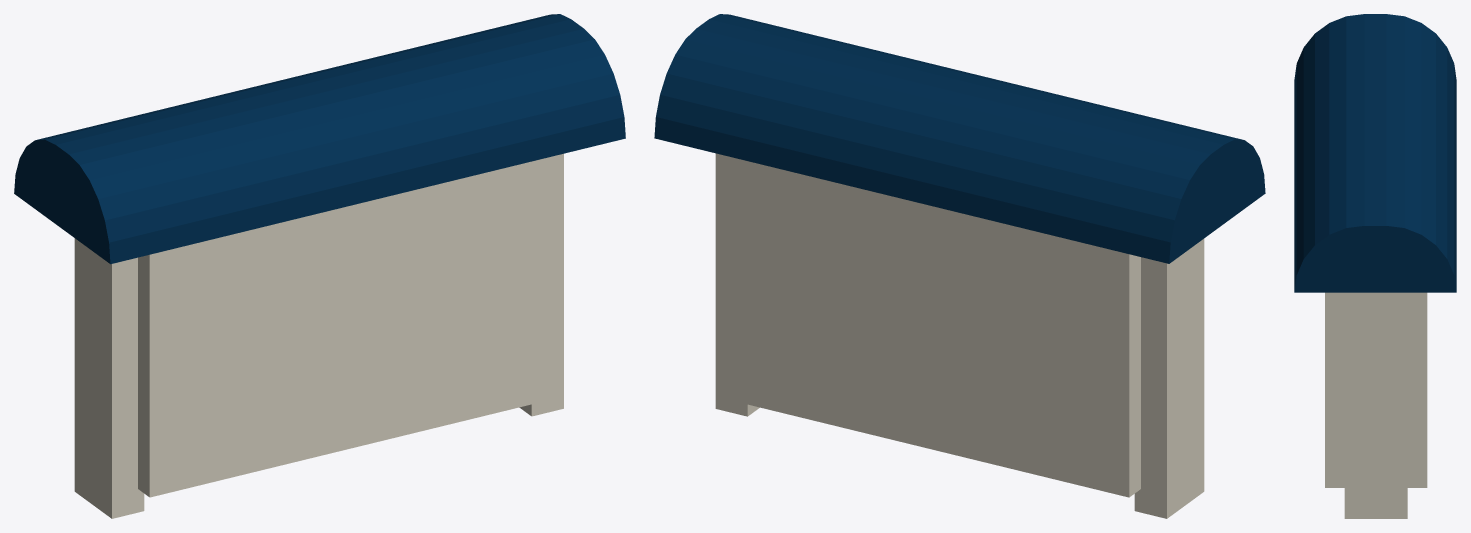
Rendered from papan informasi.fbx.
3 views of the same model, side by side, from view 1: azimuth 30°, elevation 25°; view 2: azimuth 150°, elevation 25°; view 3: azimuth 270°, elevation 25° (orthographic). The views are drawn at different scales.
Visible parts, largest first — view 1: Cube.011; view 2: Cube.011; view 3: Cube.011.
Boxes of the visible parts, bbox=[...] form: Cube.011: bbox=[14, 14, 625, 518]; Cube.011: bbox=[654, 14, 1265, 518]; Cube.011: bbox=[1294, 14, 1456, 518].
Bounding box in the file's own units: 503 × 339 × 163.
